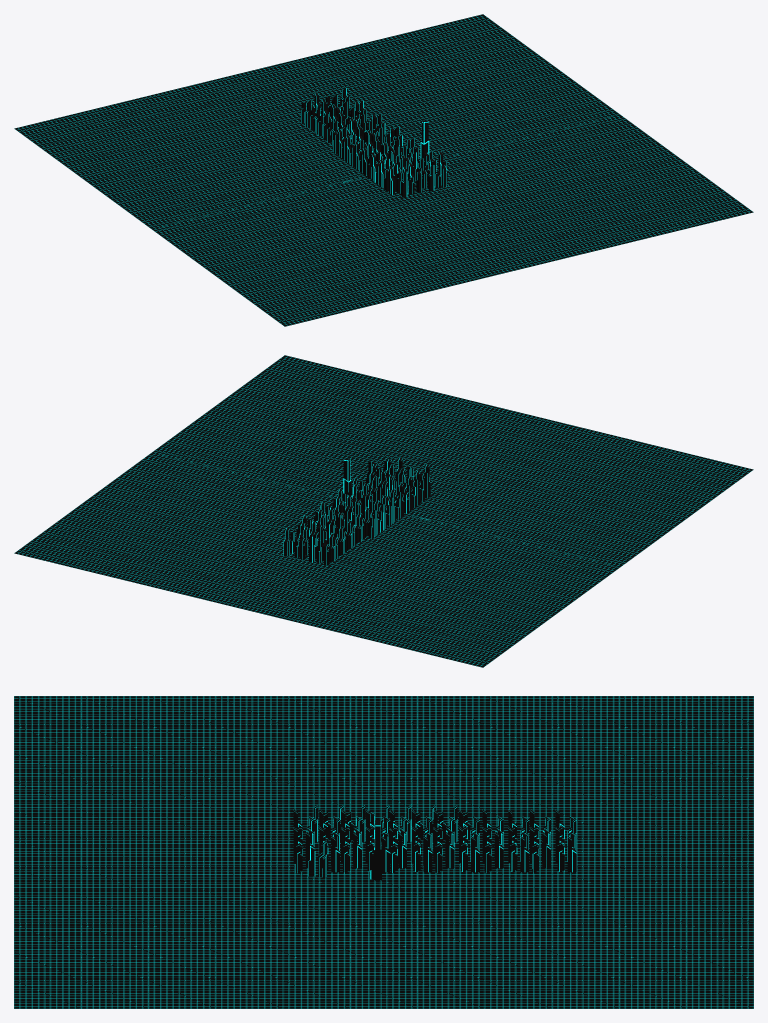
Rendered from tron_inspired_vr_playground.glb.
3 renders of one model, top to bottom at view 1: azimuth 30°, elevation 25°; view 2: azimuth 150°, elevation 25°; view 3: azimuth 270°, elevation 25°, orthographic. The views are drawn at different scales.
Parts seen in each view (by area): view 1: Plane; view 2: Plane; view 3: Plane.
Boxes of the visible parts, <box> form: Plane: <box>14,14,753,326</box>; Plane: <box>14,355,753,667</box>; Plane: <box>14,696,753,1008</box>.
Size of the model in its own units: 1412 by 122 by 1412.
8 materials, 1 textured.
